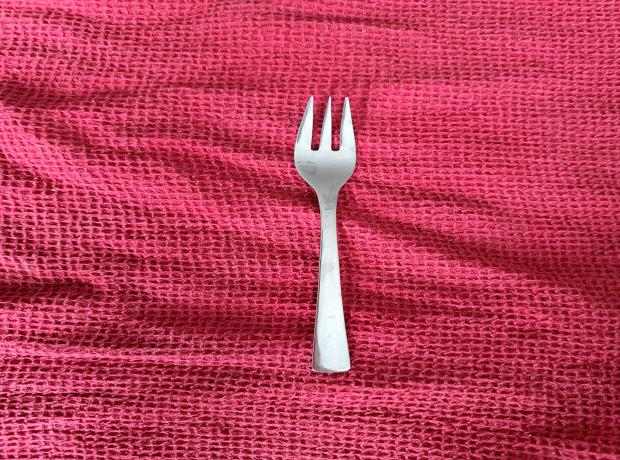metal: (288, 93, 360, 373)
